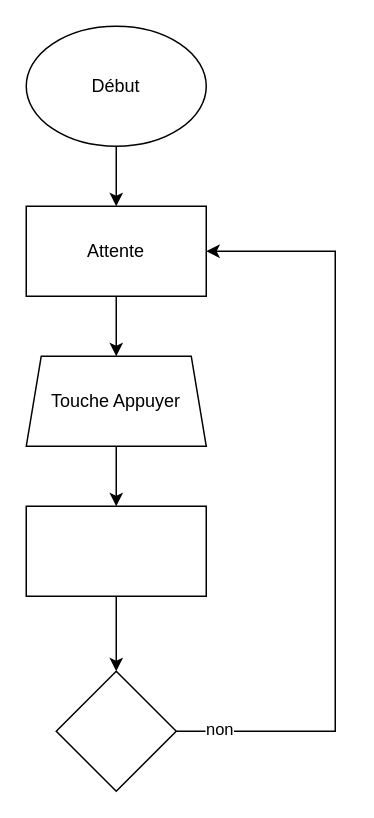
The diagram is 374 pixels wide and 818 high, and some of its shapes have lost their labels. The shapes that lost their labels are listed below. From the top down, each one's centre as x and y in pixels, then its label:
(x=115, y=550): nb_lettre = nombre de lettre de la suite de caractère taper par l'utilisateur
(x=115, y=730): nb_lettre >= 3
